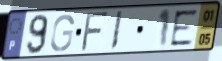1: (156, 7, 171, 50)
9: (24, 13, 50, 57)
E: (169, 8, 199, 49)
F: (79, 10, 112, 53)
G: (49, 14, 76, 54)
I: (109, 9, 125, 52)
